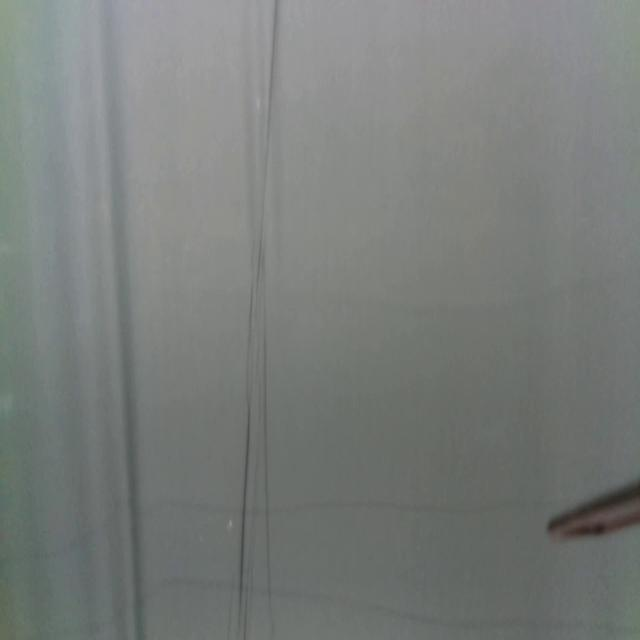color bleeding: (0, 488, 544, 570), (152, 573, 640, 640), (291, 263, 640, 325)
crease: (237, 0, 278, 640)
